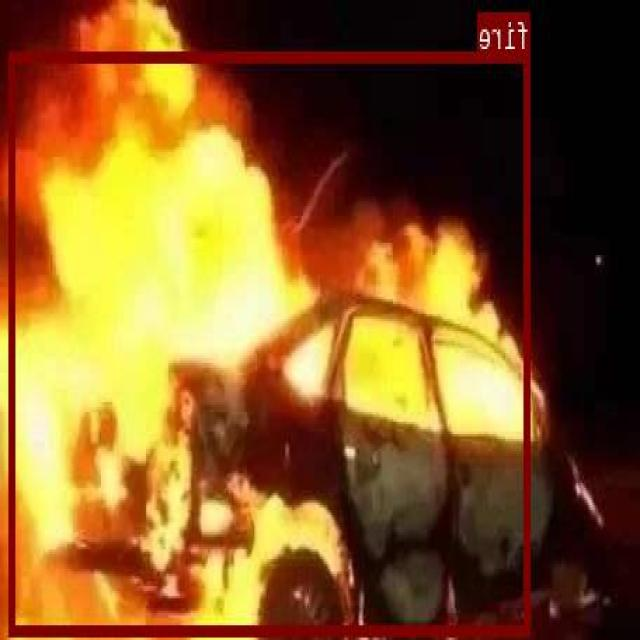fire: (11, 50, 531, 633)
